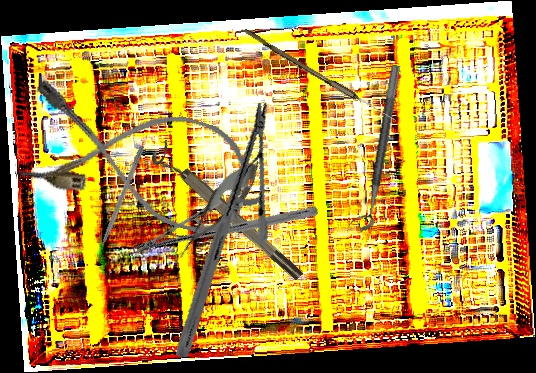Cannula: (10, 73, 265, 244)
Fixation Ring: (148, 139, 306, 290), (348, 62, 402, 234)
Micro Scissor: (167, 151, 269, 268)
Needle Holder: (132, 101, 313, 359), (131, 139, 321, 321)
Pusher: (91, 144, 146, 263)
Surgical Spoon: (241, 28, 399, 124)
